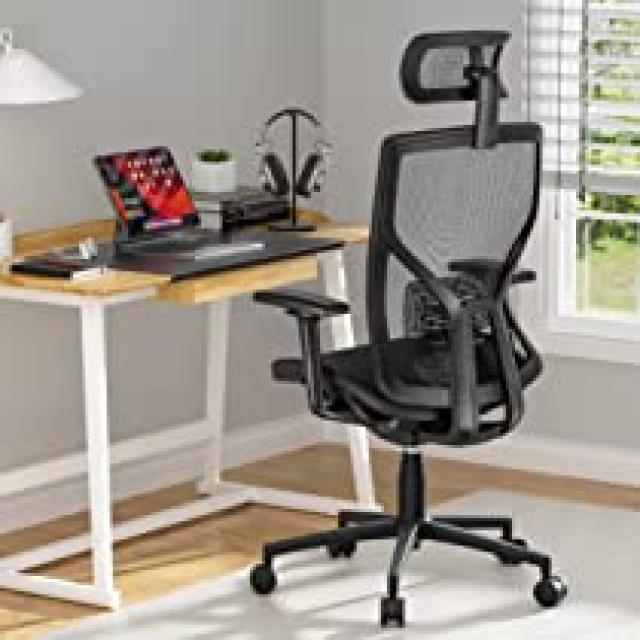chair: (232, 15, 584, 640)
